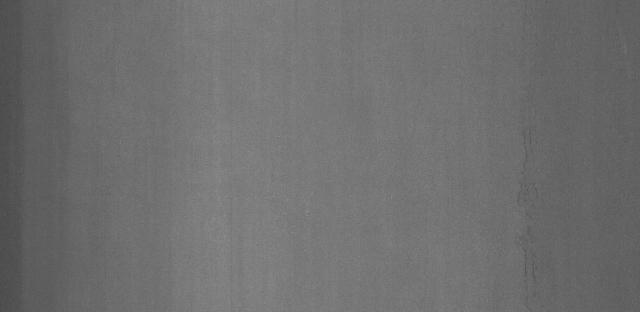silk_spot: (505, 85, 572, 288)
